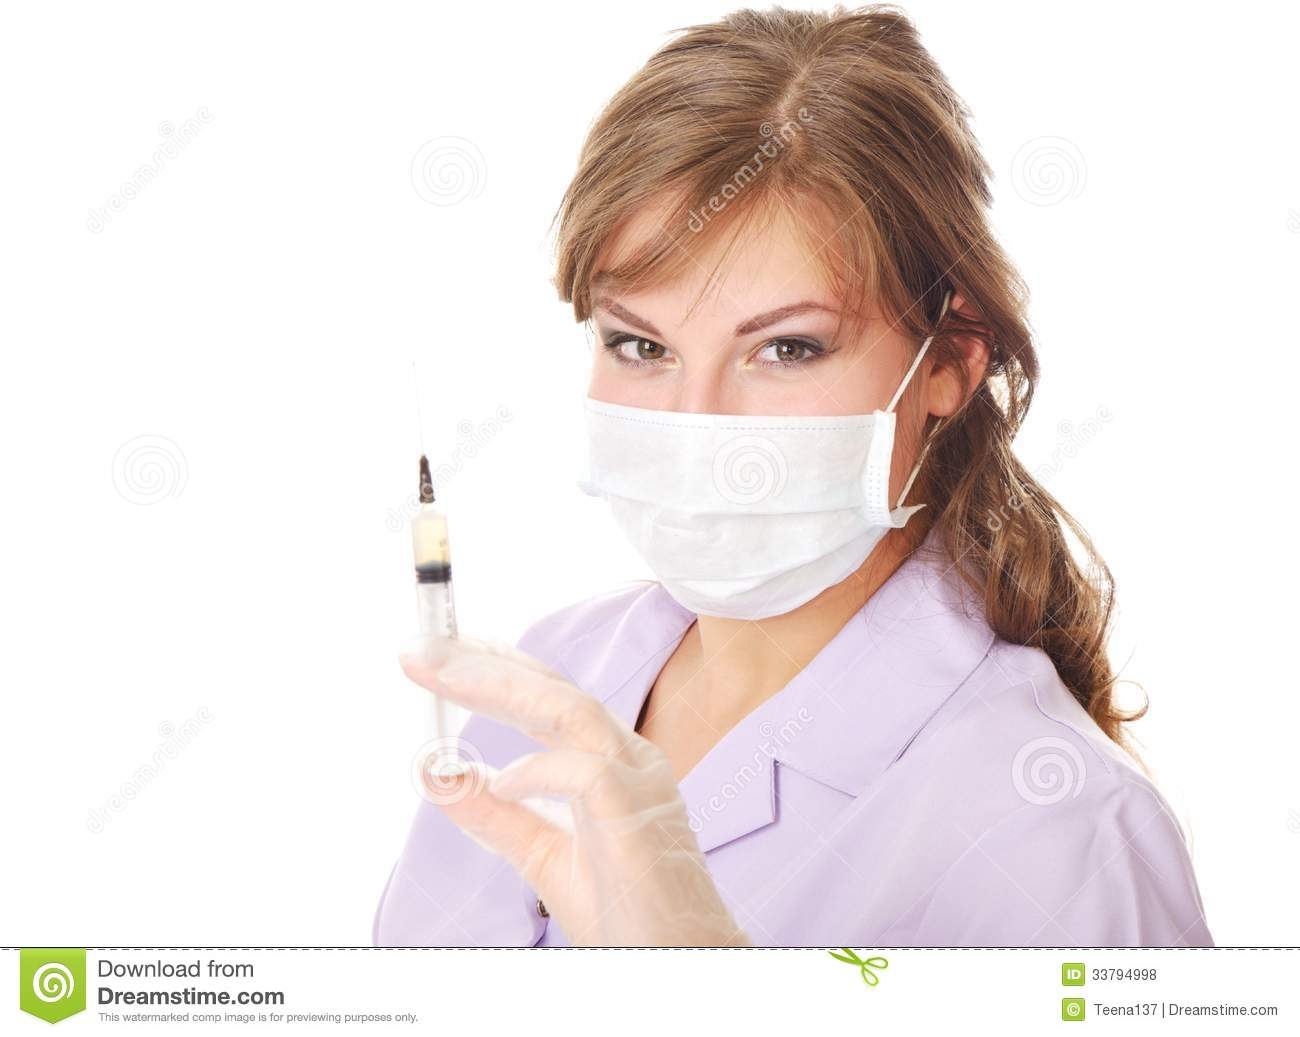mask: (587, 398, 905, 620)
